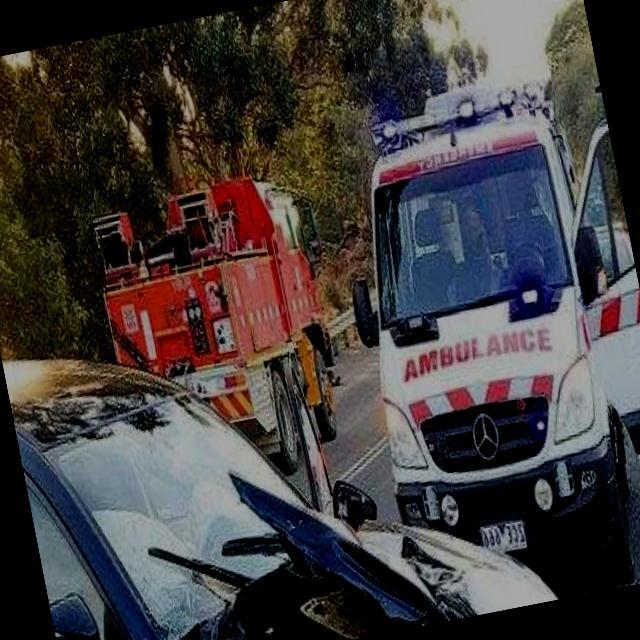emergency-vehicle: (317, 46, 640, 586)
